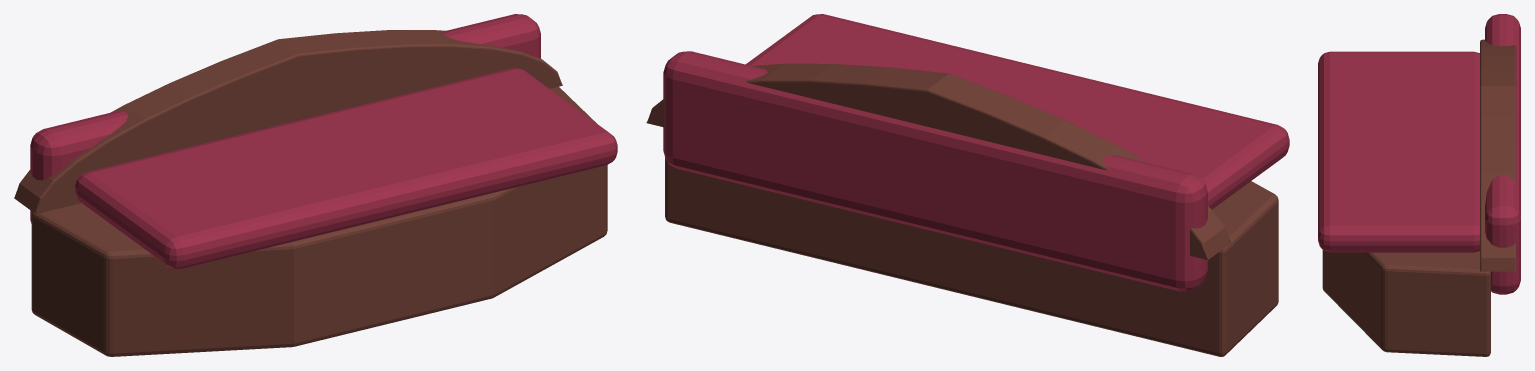
File: chaise_coffin_settee.glb
3 views of the same model, side by side, from view 1: azimuth 30°, elevation 25°; view 2: azimuth 150°, elevation 25°; view 3: azimuth 270°, elevation 25° (orthographic). The views are drawn at different scales.
Parts seen in each view (by area): view 1: GD_chaise_coffin_settee__m0, GD_chaise_coffin_settee__m1; view 2: GD_chaise_coffin_settee__m1, GD_chaise_coffin_settee__m0; view 3: GD_chaise_coffin_settee__m1, GD_chaise_coffin_settee__m0.
Boxes of the visible parts, x1,y1,x2,y2 form: GD_chaise_coffin_settee__m0: (14, 30, 607, 356); GD_chaise_coffin_settee__m1: (30, 14, 617, 268); GD_chaise_coffin_settee__m1: (663, 14, 1289, 291); GD_chaise_coffin_settee__m0: (646, 63, 1278, 356); GD_chaise_coffin_settee__m1: (1318, 14, 1520, 294); GD_chaise_coffin_settee__m0: (1322, 39, 1516, 356).
Size of the model in its own units: 2.1 by 0.7637 by 0.845.
